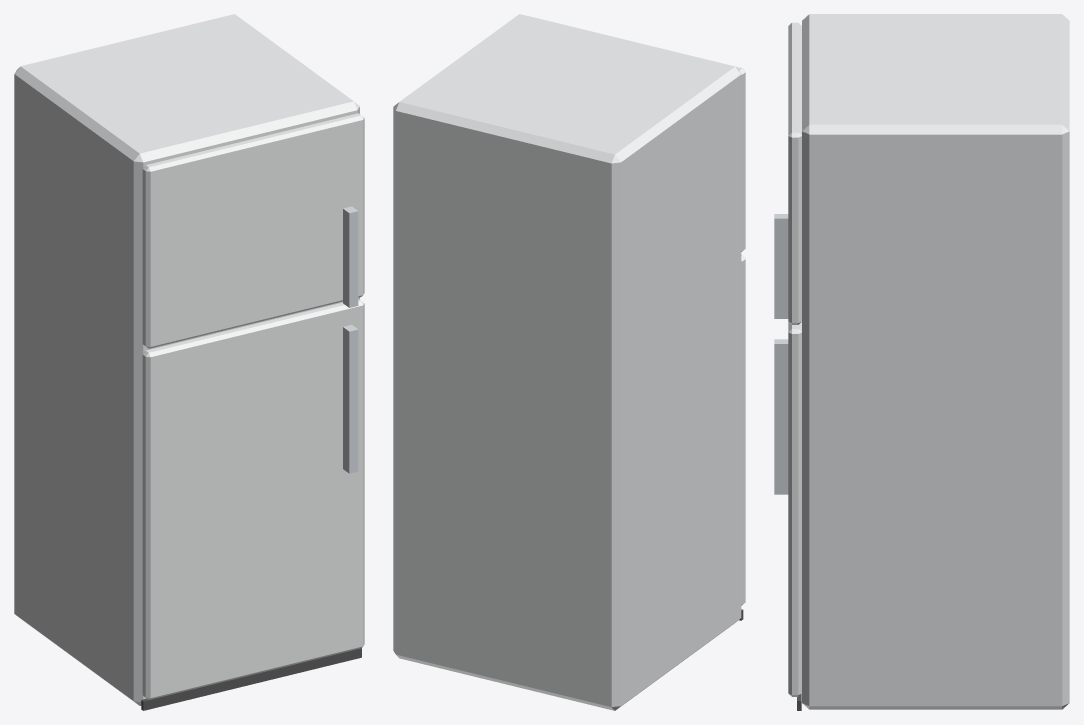
File: FUR_Fridge_Frac.fbx
The picture shows the model from 3 angles, left to right: view 1: azimuth 30°, elevation 25°; view 2: azimuth 150°, elevation 25°; view 3: azimuth 270°, elevation 25°; orthographic projection. The views are drawn at different scales.
Parts seen in each view (by area): view 1: FUR_Fridge_Frac_3, FUR_Fridge_Frac_5, FUR_Fridge_Frac_4, FUR_Fridge_Frac_1, FUR_Fridge_Frac_2; view 2: FUR_Fridge_Frac_2, FUR_Fridge_Frac_5, FUR_Fridge_Frac_1, FUR_Fridge_Frac_3, FUR_Fridge_Frac_4; view 3: FUR_Fridge_Frac_1, FUR_Fridge_Frac_4, FUR_Fridge_Frac_5.
Part boxes in pixels (box(x1,y1,x2,y2)): FUR_Fridge_Frac_3: box(14, 394, 349, 710); FUR_Fridge_Frac_5: box(14, 52, 226, 342); FUR_Fridge_Frac_4: box(202, 20, 364, 480); FUR_Fridge_Frac_1: box(77, 14, 364, 660); FUR_Fridge_Frac_2: box(14, 271, 265, 554); FUR_Fridge_Frac_2: box(395, 243, 745, 655); FUR_Fridge_Frac_5: box(501, 57, 745, 406); FUR_Fridge_Frac_1: box(393, 51, 702, 646); FUR_Fridge_Frac_3: box(393, 308, 745, 710); FUR_Fridge_Frac_4: box(408, 14, 687, 95); FUR_Fridge_Frac_1: box(782, 34, 1069, 710); FUR_Fridge_Frac_4: box(774, 46, 1049, 520); FUR_Fridge_Frac_5: box(788, 14, 1069, 50).
Bounding box in the file's own units: 3 × 7 × 3.2.
